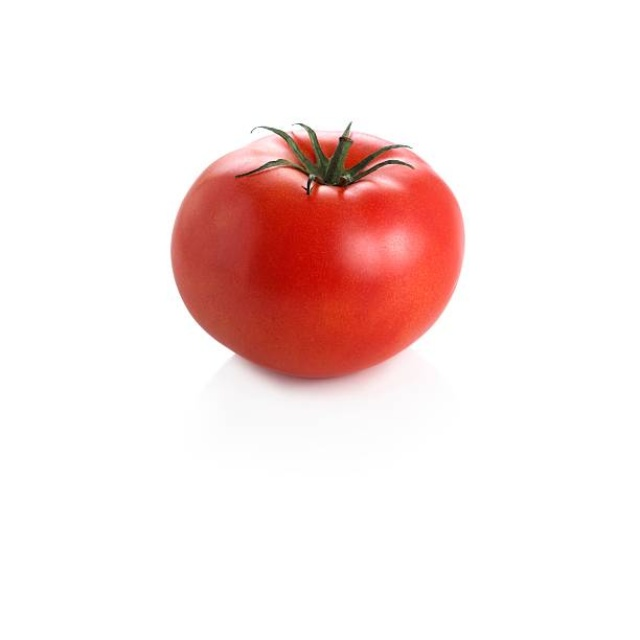tomato: (170, 128, 461, 380)
